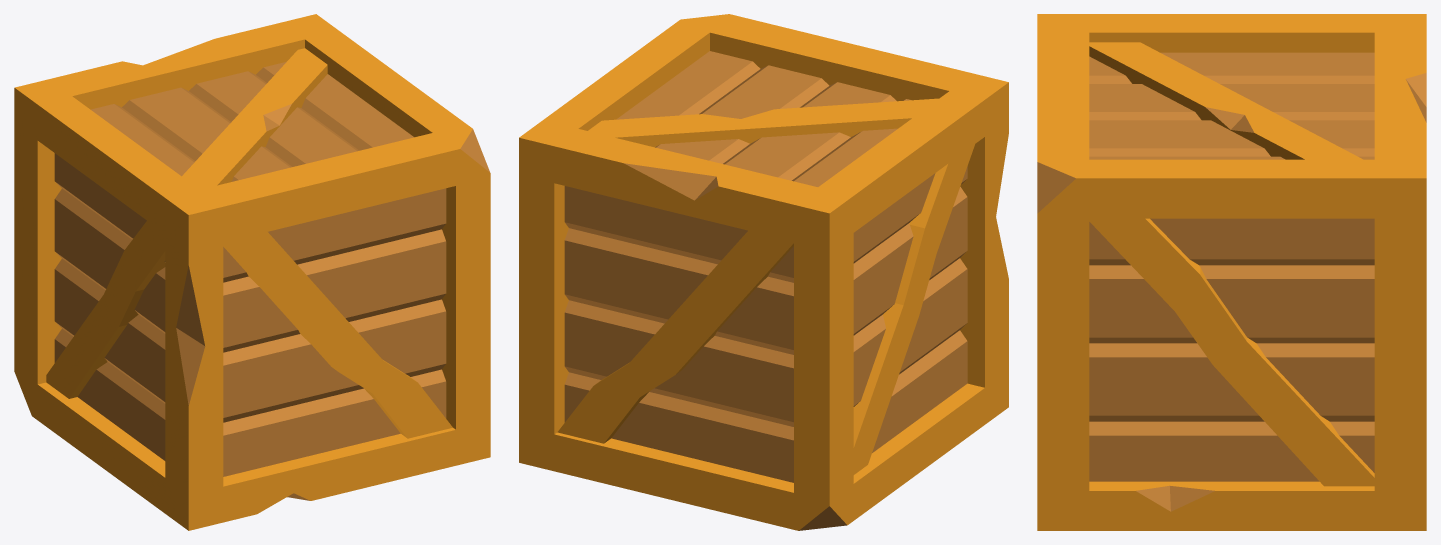
The model's file is SM_Prop_Crate_03.glb.
The picture shows the model from 3 angles, left to right: view 1: azimuth 30°, elevation 25°; view 2: azimuth 150°, elevation 25°; view 3: azimuth 270°, elevation 25°; orthographic projection. The views are drawn at different scales.
Visible parts, largest first — view 1: SM_Prop_Crate_03; view 2: SM_Prop_Crate_03; view 3: SM_Prop_Crate_03.
Part boxes in pixels (<box>): SM_Prop_Crate_03: <box>14,14,490,530</box>; SM_Prop_Crate_03: <box>519,14,1008,530</box>; SM_Prop_Crate_03: <box>1037,14,1426,530</box>.
Bounding box in the file's own units: 0.9965 × 0.9965 × 0.9965.
Materials: 1 (1 with a texture image).
